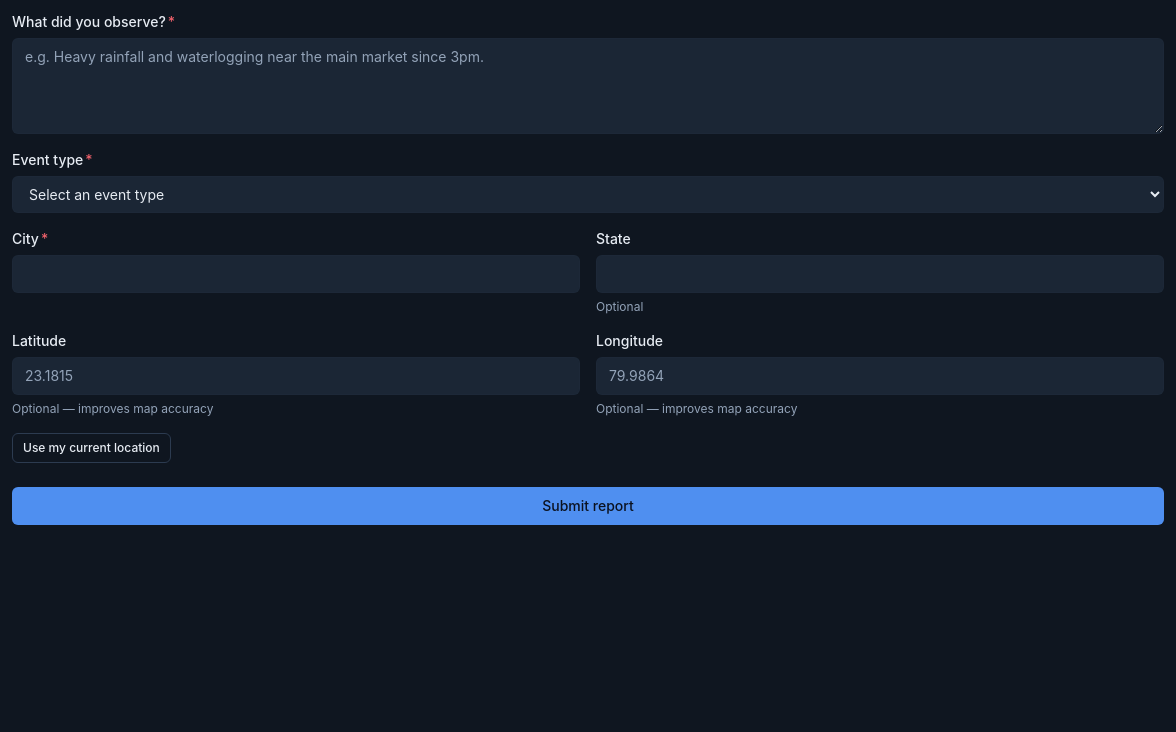
Test case: ReportForm › shows validation errors when required fields are missing
The image size is (1176, 732).
Click the button "Submit report".
click(588, 506)  # box top-left (12, 487), bottom-right (1164, 525)
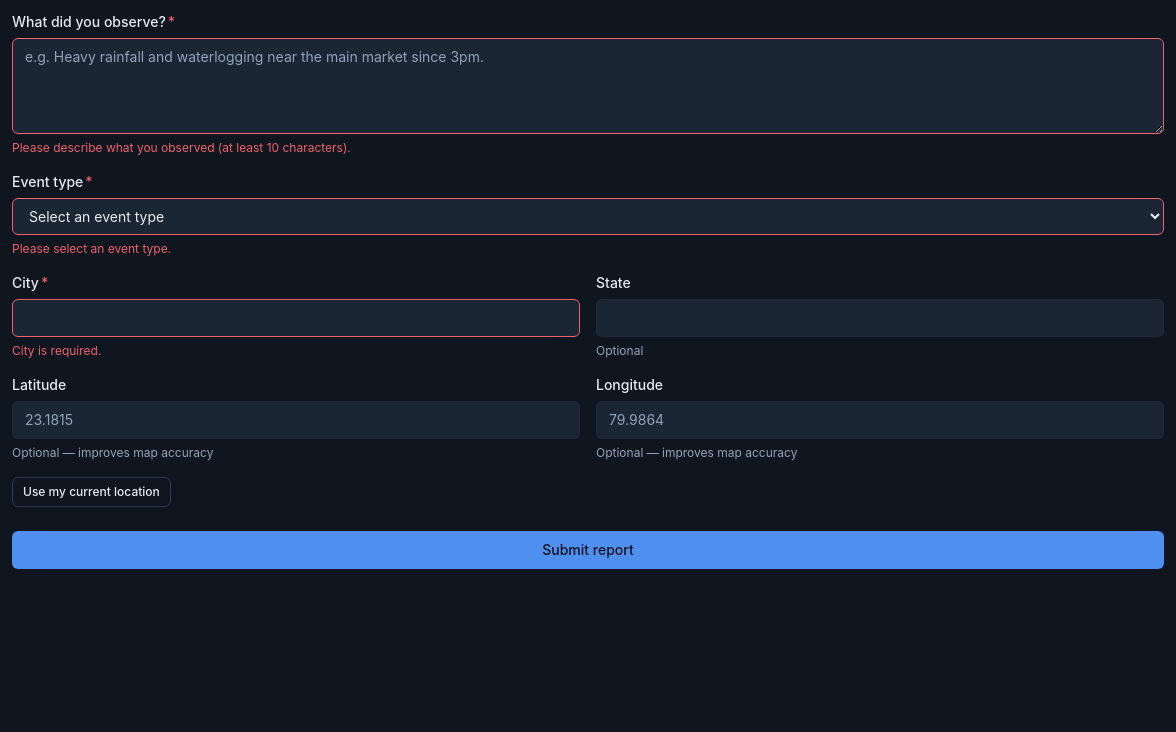
Check: the text "Please describe what you observed (at least 10 characters)." is shown, box top-left (12, 140), bottom-right (351, 155)
Check: the text "City is required." is shown, box top-left (12, 343), bottom-right (101, 358)
Check: the text "Please select an event type." is shown, box top-left (12, 241), bottom-right (171, 256)
